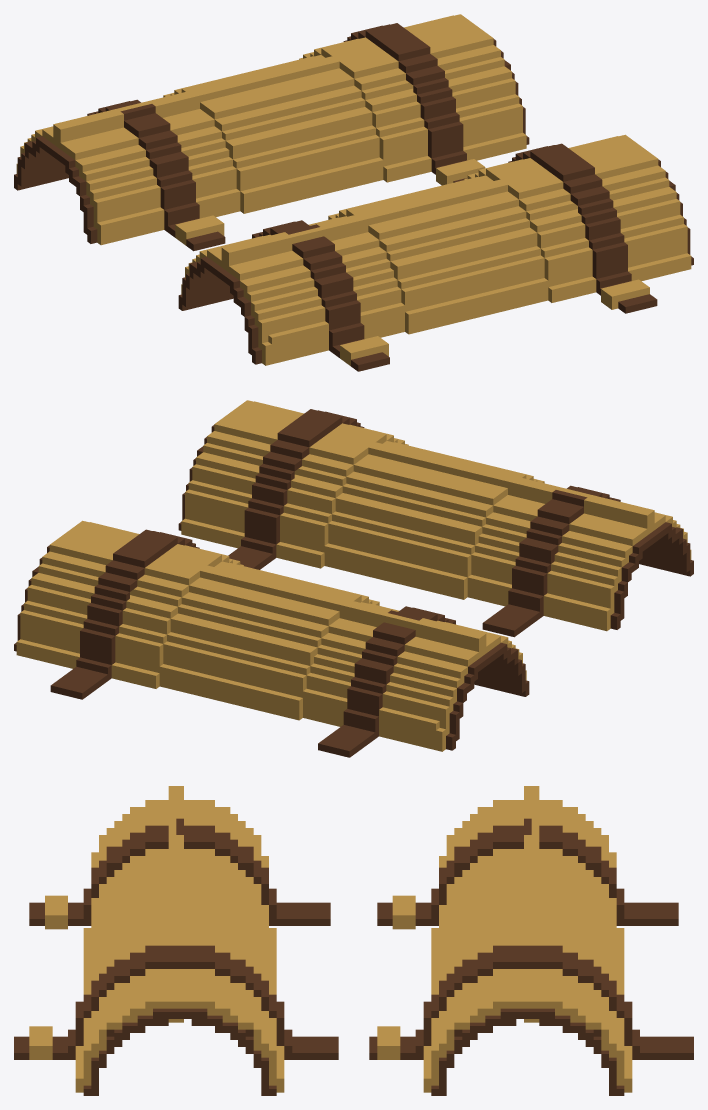
Rendered from armguard_bronze.glb.
3 views of the same model, one above another, from view 1: azimuth 30°, elevation 25°; view 2: azimuth 150°, elevation 25°; view 3: azimuth 270°, elevation 25° (orthographic). The views are drawn at different scales.
Visible parts, largest first — view 1: armguard_bronze:compound; view 2: armguard_bronze:compound; view 3: armguard_bronze:compound.
Part boxes in pixels (box(x1,y1,x2,y2)): armguard_bronze:compound: box(14, 14, 693, 371); armguard_bronze:compound: box(14, 400, 693, 757); armguard_bronze:compound: box(14, 786, 693, 1095).
Bounding box in the file's own units: 0.272 × 0.056 × 0.352.
